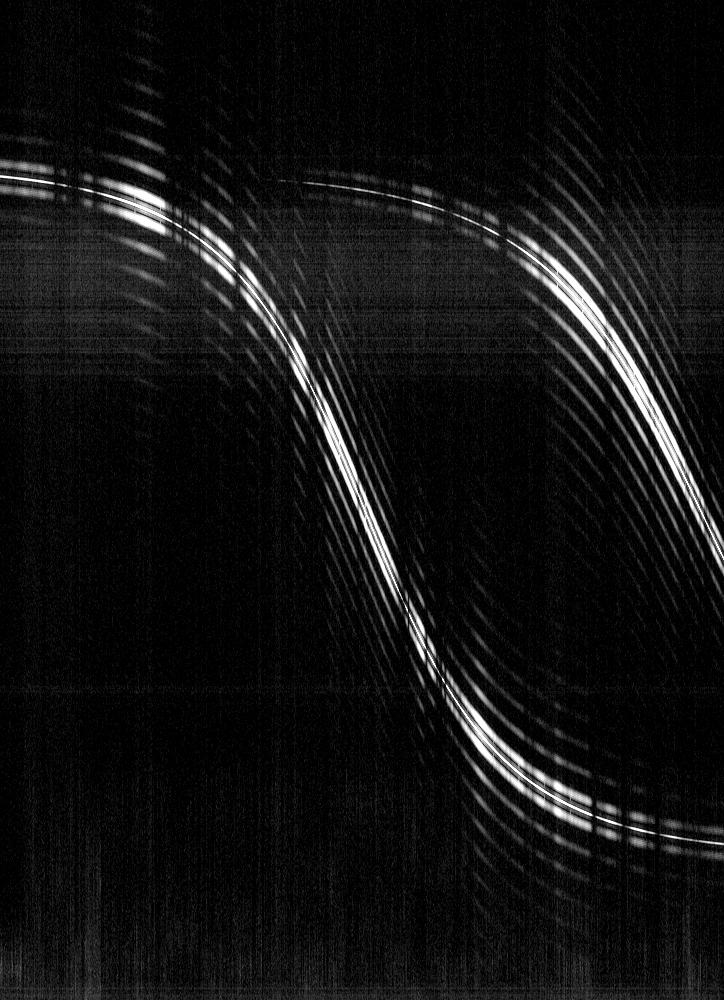signal: (0, 0, 723, 999)
